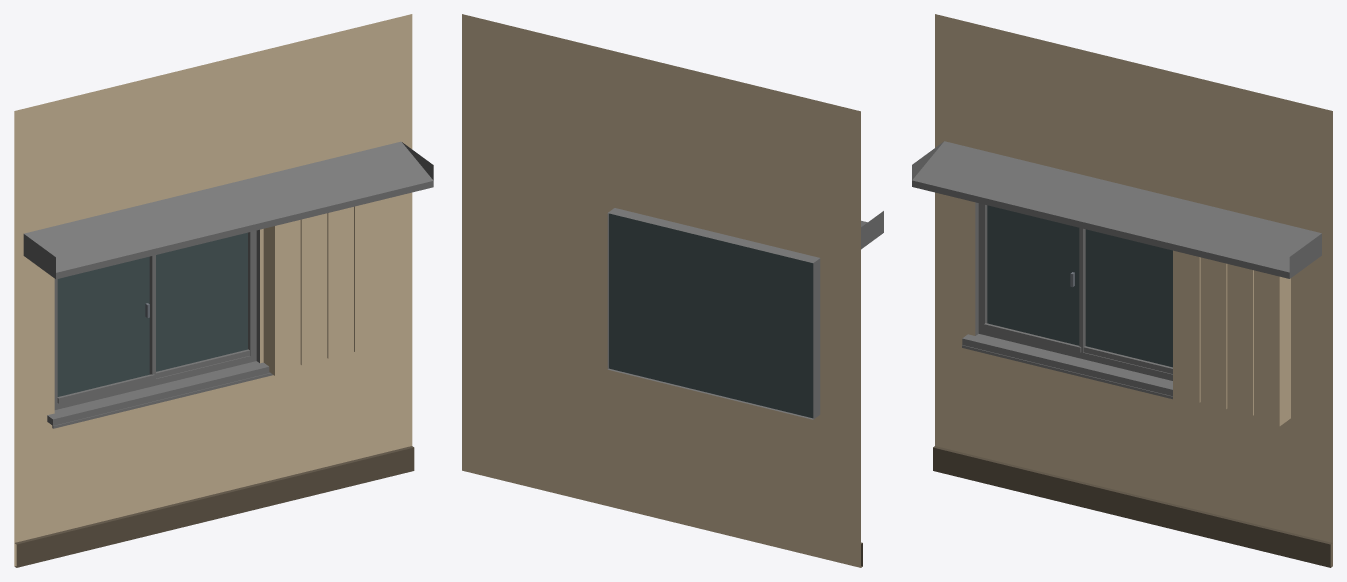
The model's file is top-w3_close.fbx.
3 views of the same model, side by side, from view 1: azimuth 30°, elevation 25°; view 2: azimuth 150°, elevation 25°; view 3: azimuth 330°, elevation 25° (orthographic).
Visible parts, largest first — view 1: a2000/400/top-w3_close; view 2: a2000/400/top-w3_close; view 3: a2000/400/top-w3_close.
Part boxes in pixels (x1=…): a2000/400/top-w3_close: x1=14, y1=14, x2=433, y2=567; a2000/400/top-w3_close: x1=462, y1=14, x2=883, y2=567; a2000/400/top-w3_close: x1=912, y1=14, x2=1332, y2=567.
Size of the model in its own units: 3.2 by 3.5 by 0.55.
